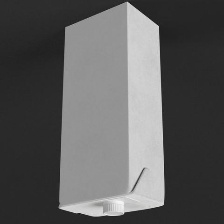carton: (54, 0, 169, 218)
